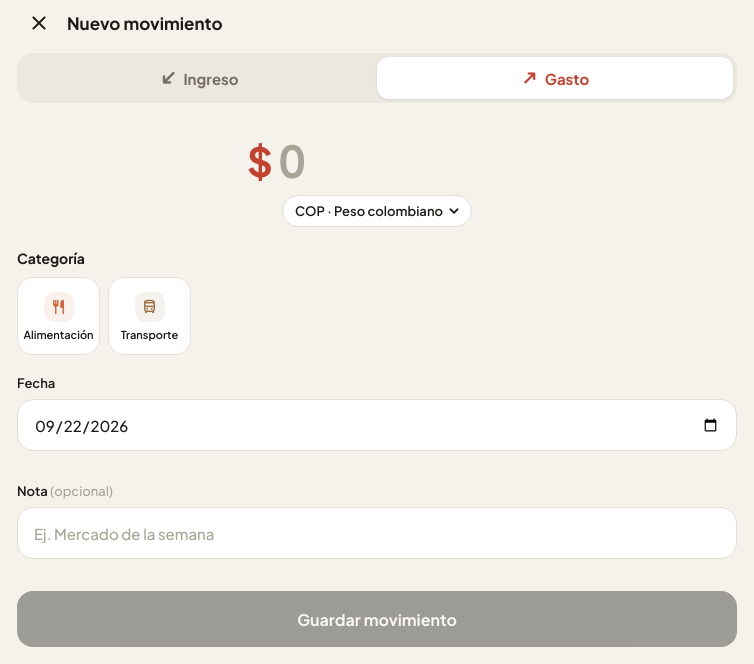
Scenario: Nuevo movimiento › no se puede guardar sin importe ni categoria
Expected: the button "Guardar movimiento" is disabled, [17,591,737,647]
Type "45000" into the field named "Importe" at x=392, y=160, box [277,131,507,189]
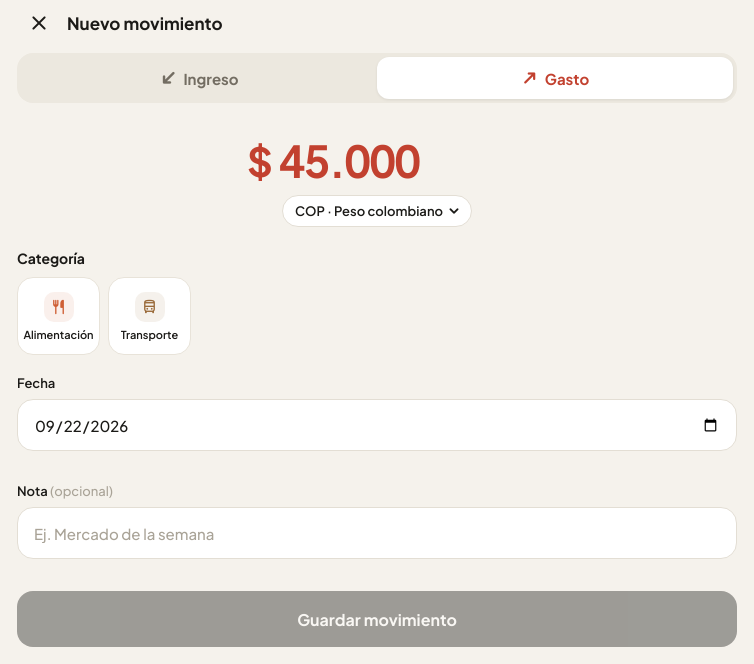
Expected: the button "Guardar movimiento" is disabled, [17,591,737,647]
Click the radio button labelled "Alimentación" at x=58, y=316, box [17,277,100,355]
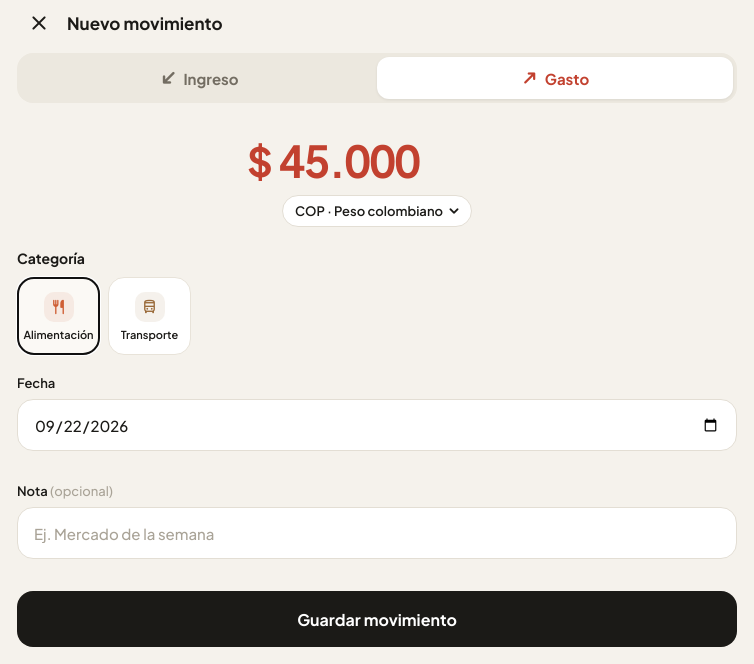
Expected: the button "Guardar movimiento" is enabled, [17,591,737,647]
